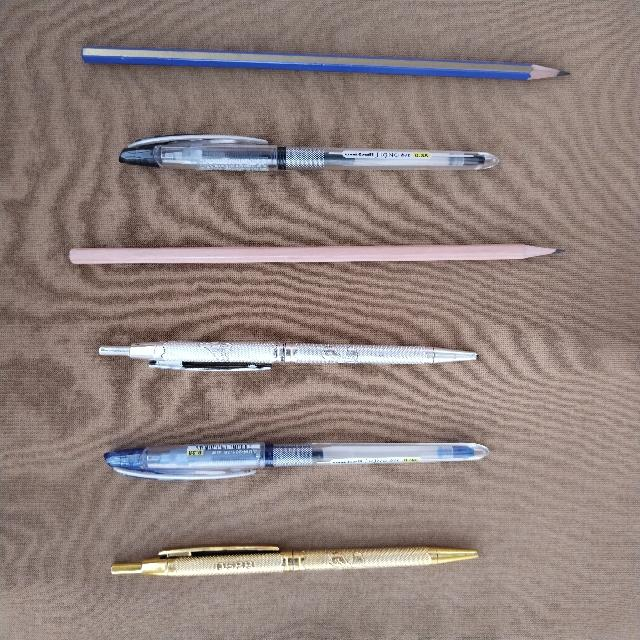pen: (104, 443, 488, 479), (119, 135, 498, 170)
pencil: (82, 47, 567, 79), (69, 244, 561, 263)
signature pen: (111, 546, 477, 576), (99, 342, 476, 370)
